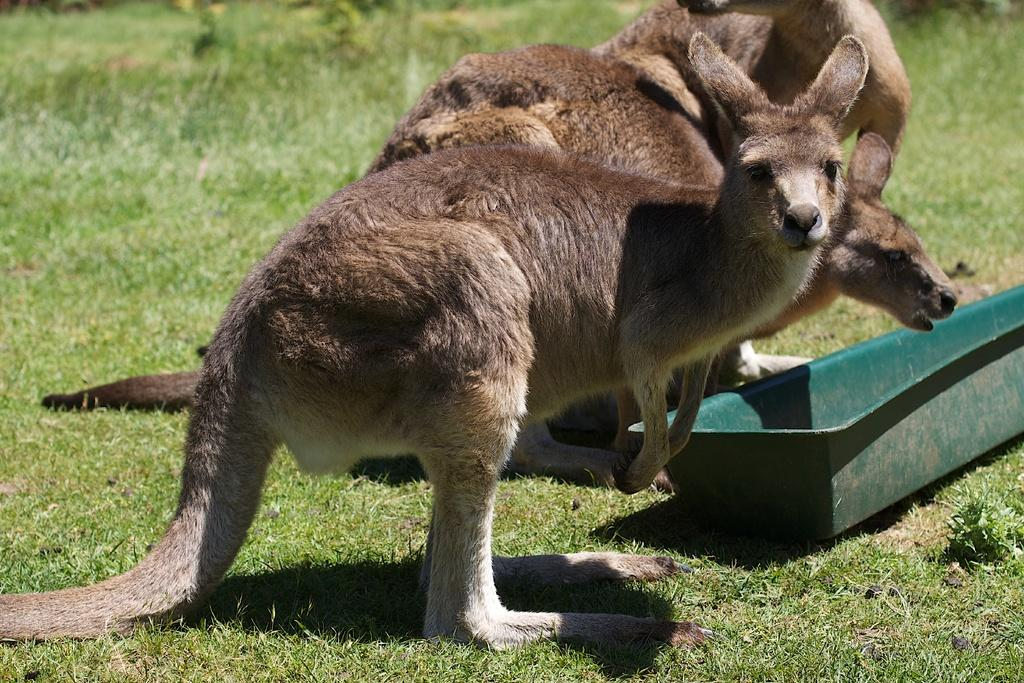kangaroo: (0, 26, 870, 654), (37, 46, 742, 395), (372, 95, 952, 507), (567, 0, 912, 356)
